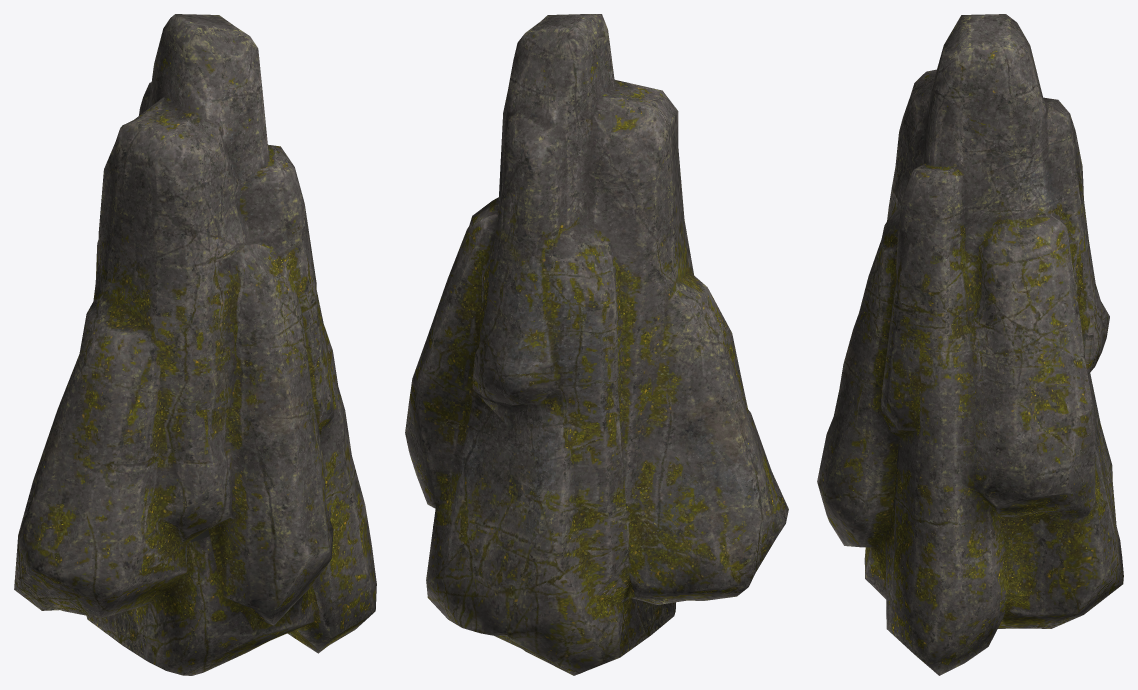
File: SM_Rock_cliff_02.FBX
3 views of the same model, side by side, from view 1: azimuth 30°, elevation 25°; view 2: azimuth 150°, elevation 25°; view 3: azimuth 270°, elevation 25° (orthographic). The views are drawn at different scales.
Visible parts, largest first — view 1: SM_Rock_cliff_02; view 2: SM_Rock_cliff_02; view 3: SM_Rock_cliff_02.
Part boxes in pixels (x1,y1,x2,y2): SM_Rock_cliff_02: [14, 14, 376, 675]; SM_Rock_cliff_02: [405, 14, 788, 675]; SM_Rock_cliff_02: [817, 14, 1123, 675].
Size of the model in its own units: 529 by 938 by 435.
